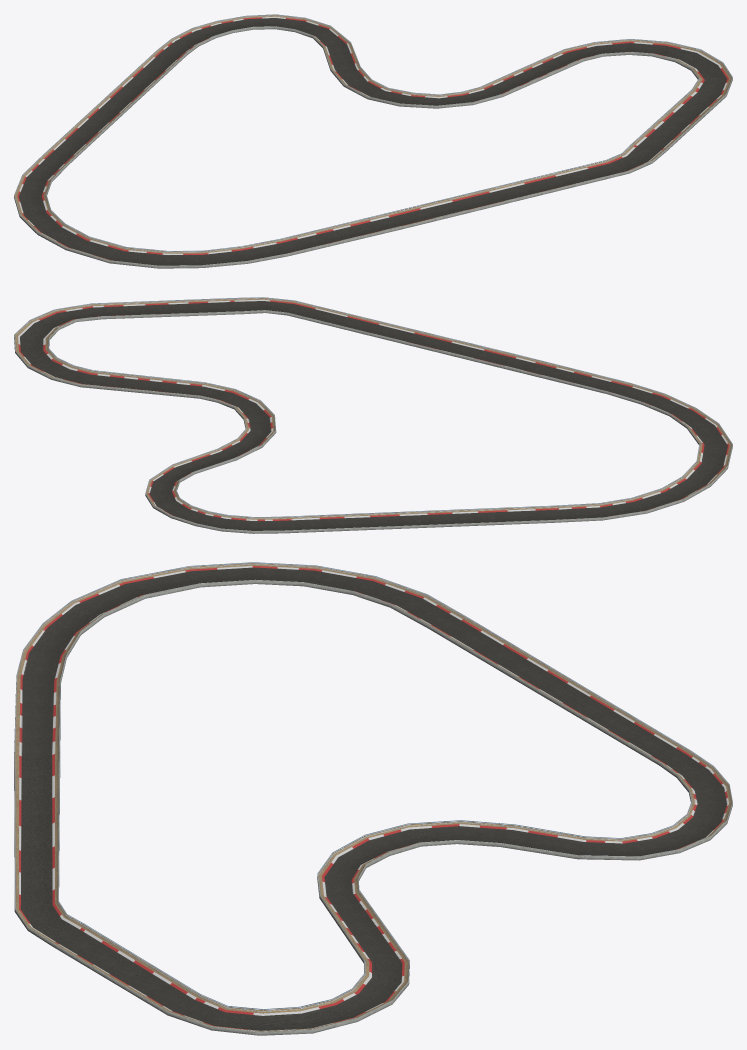
File: pista_nova_2.fbx
3 views of the same model, one above another, from view 1: azimuth 30°, elevation 25°; view 2: azimuth 150°, elevation 25°; view 3: azimuth 270°, elevation 25° (orthographic). The views are drawn at different scales.
Visible parts, largest first — view 1: nurbsToPoly2; view 2: nurbsToPoly2; view 3: nurbsToPoly2.
Boxes of the visible parts, x1,y1,x2,y2 form: nurbsToPoly2: (14,14,732,268); nurbsToPoly2: (14,297,732,533); nurbsToPoly2: (14,562,732,1035).
Size of the model in its own units: 243 by 1.58 by 157.
